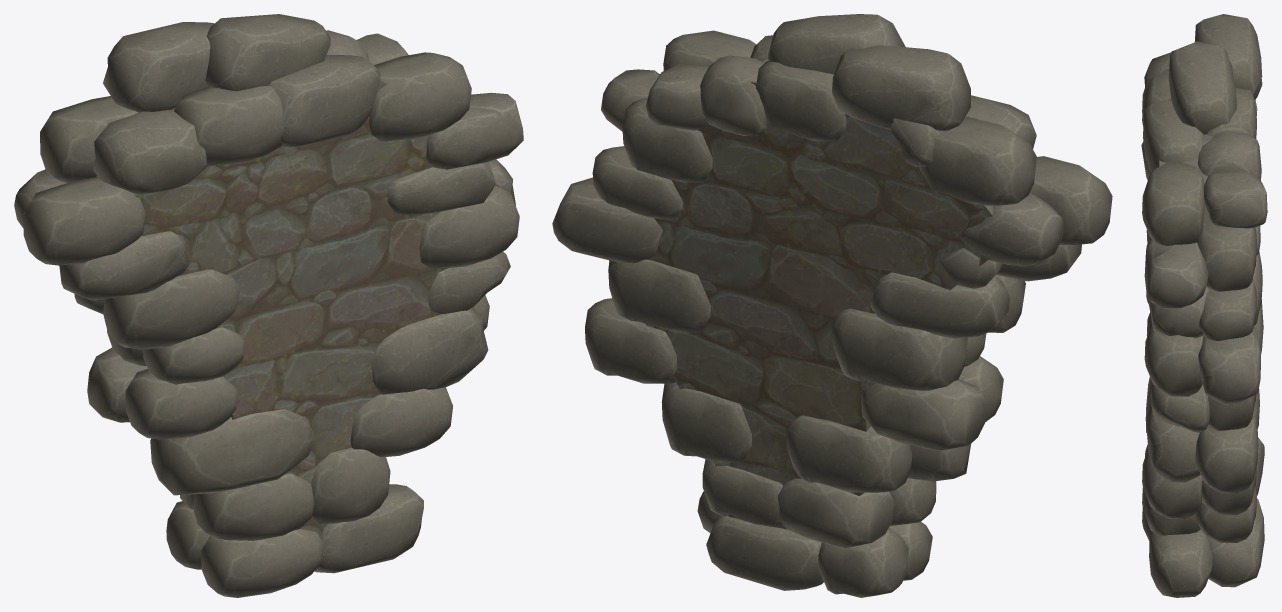
File: SM_FW01_Ruins_Int_Wall_Chunk_02.fbx
3 views of the same model, side by side, from view 1: azimuth 30°, elevation 25°; view 2: azimuth 150°, elevation 25°; view 3: azimuth 270°, elevation 25° (orthographic). The views are drawn at different scales.
Visible parts, largest first — view 1: SM_FW01_Ruins_Int_Wall_Chunk_02_LOD0, SM_FW01_Ruins_Int_Wall_Chunk_02; view 2: SM_FW01_Ruins_Int_Wall_Chunk_02_LOD0, SM_FW01_Ruins_Int_Wall_Chunk_02; view 3: SM_FW01_Ruins_Int_Wall_Chunk_02_LOD0, SM_FW01_Ruins_Int_Wall_Chunk_02.
Boxes of the visible parts, x1,y1,x2,y2 form: SM_FW01_Ruins_Int_Wall_Chunk_02_LOD0: (14,14,523,597); SM_FW01_Ruins_Int_Wall_Chunk_02: (96,54,448,535); SM_FW01_Ruins_Int_Wall_Chunk_02_LOD0: (552,14,1112,597); SM_FW01_Ruins_Int_Wall_Chunk_02: (609,59,992,529); SM_FW01_Ruins_Int_Wall_Chunk_02_LOD0: (1141,14,1267,597); SM_FW01_Ruins_Int_Wall_Chunk_02: (1159,133,1250,529).
Size of what is drawn, in the model's own units: 2.79 by 2.94 by 0.6877.
